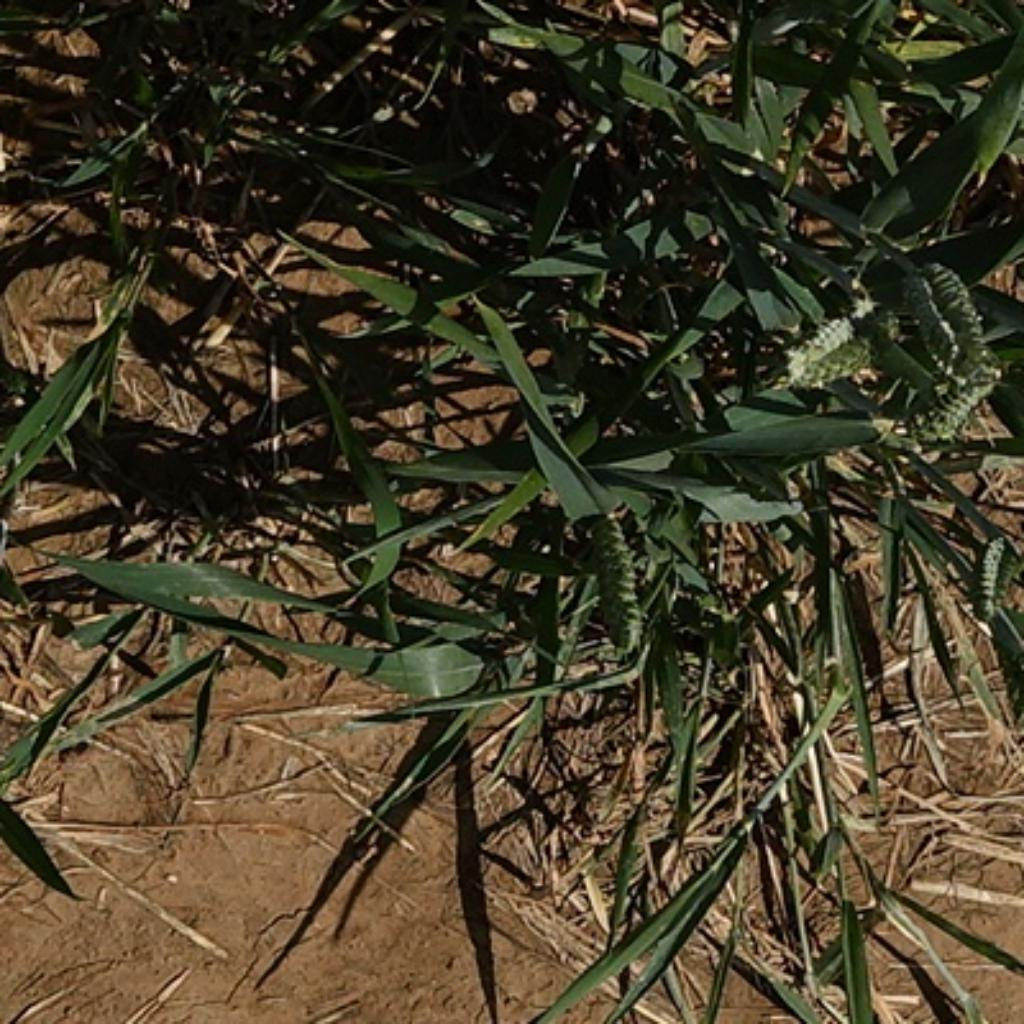0-0: (894, 247, 1006, 380), (581, 501, 665, 670), (903, 363, 1006, 468), (791, 301, 899, 396), (967, 535, 1018, 606)
